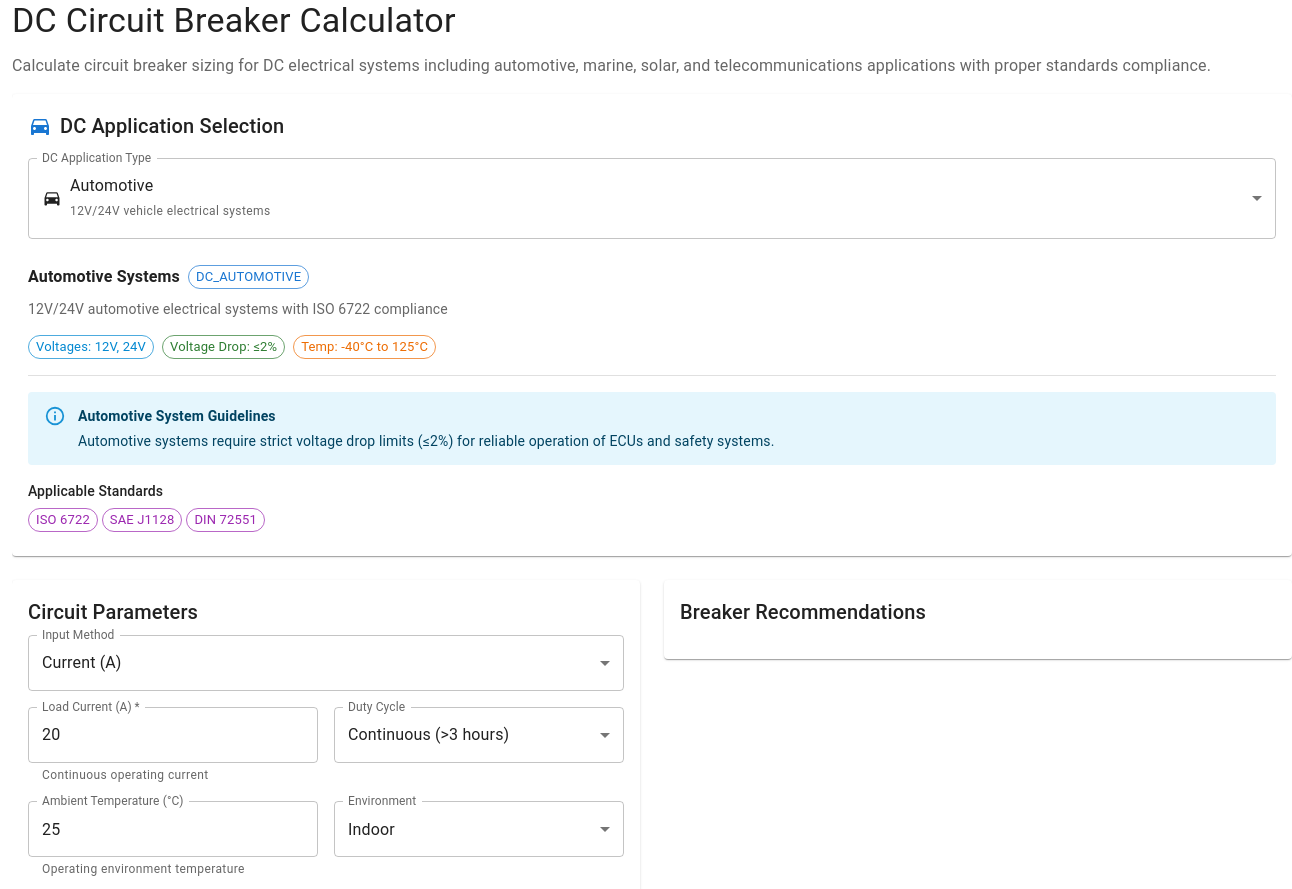
it: DC Breaker Calculator › Power-Based Input Method › should show power analysis results
The image size is (1292, 889).
Check: the heading "DC Circuit Breaker Calculator" is shown, box [12,0,456,40]
Step 1. Replace the text in the field labelled "Current (A)" with "power" → (326, 663), box [28,635,624,691]
(page scrolled)
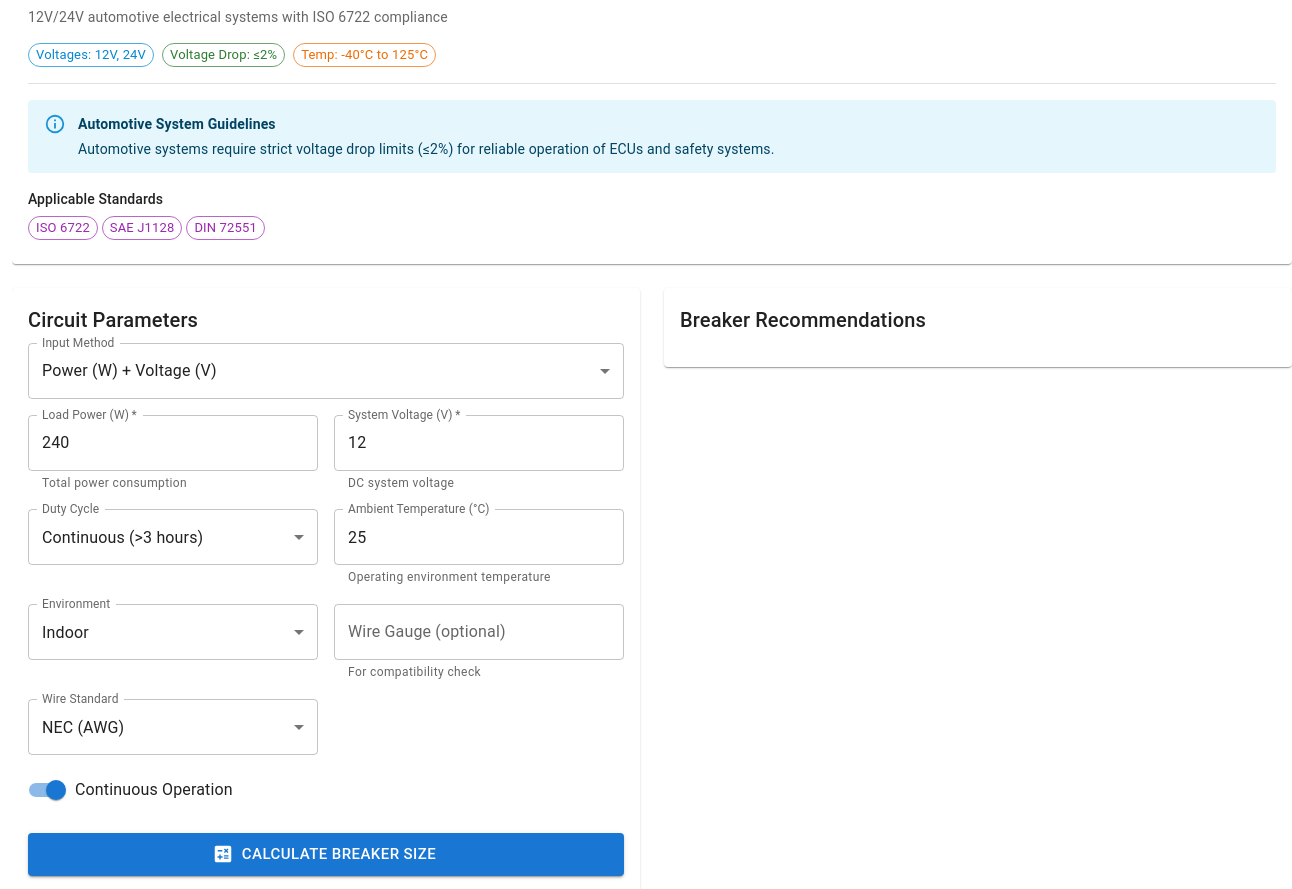
Check: the button "Calculate Breaker Size" is enabled, box [28,833,624,876]
Check: the text "Load Power (W)" is shown, box [42,407,129,421]
Check: the text "System Voltage (V)" is shown, box [348,407,453,421]
